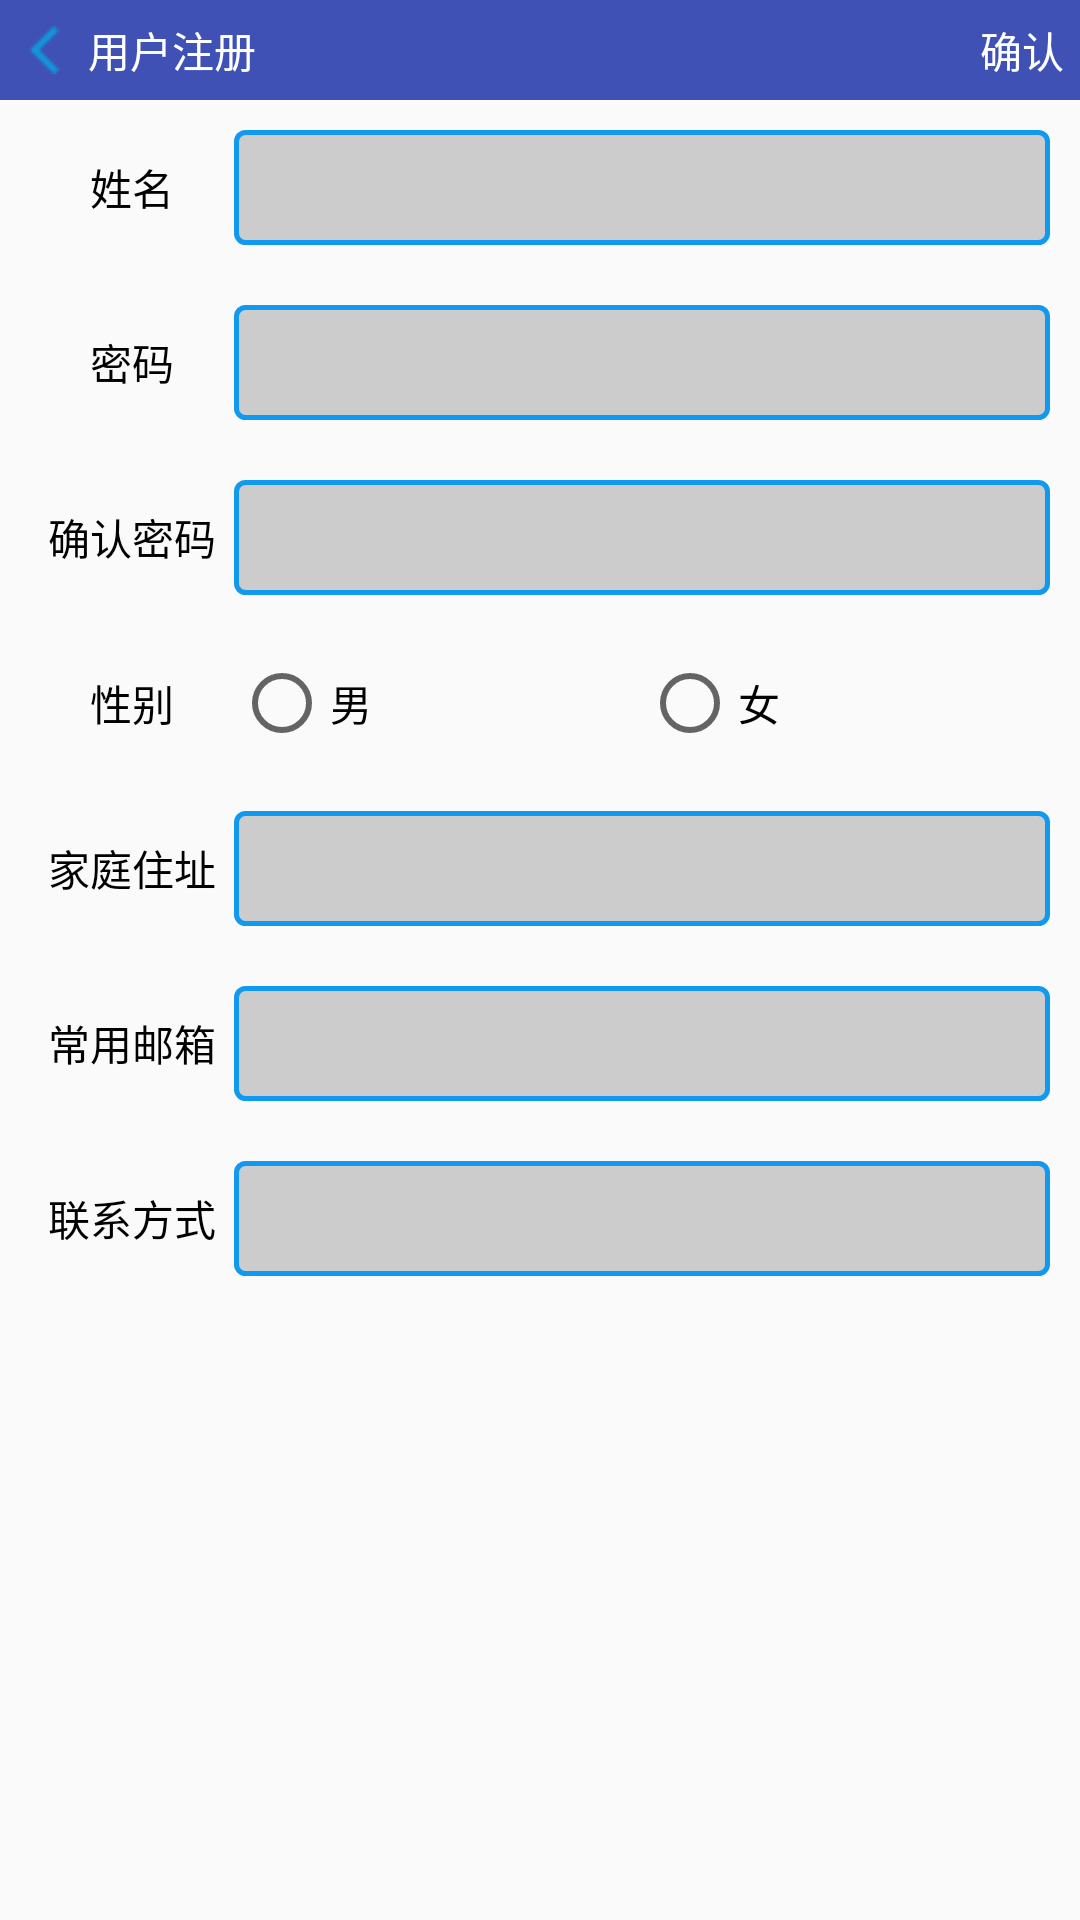

Screen size 1080w x 1920h. Icon name, then its box in pixels as [x1,y1,x2,y2]:
backarrow: [31,26,59,74]
